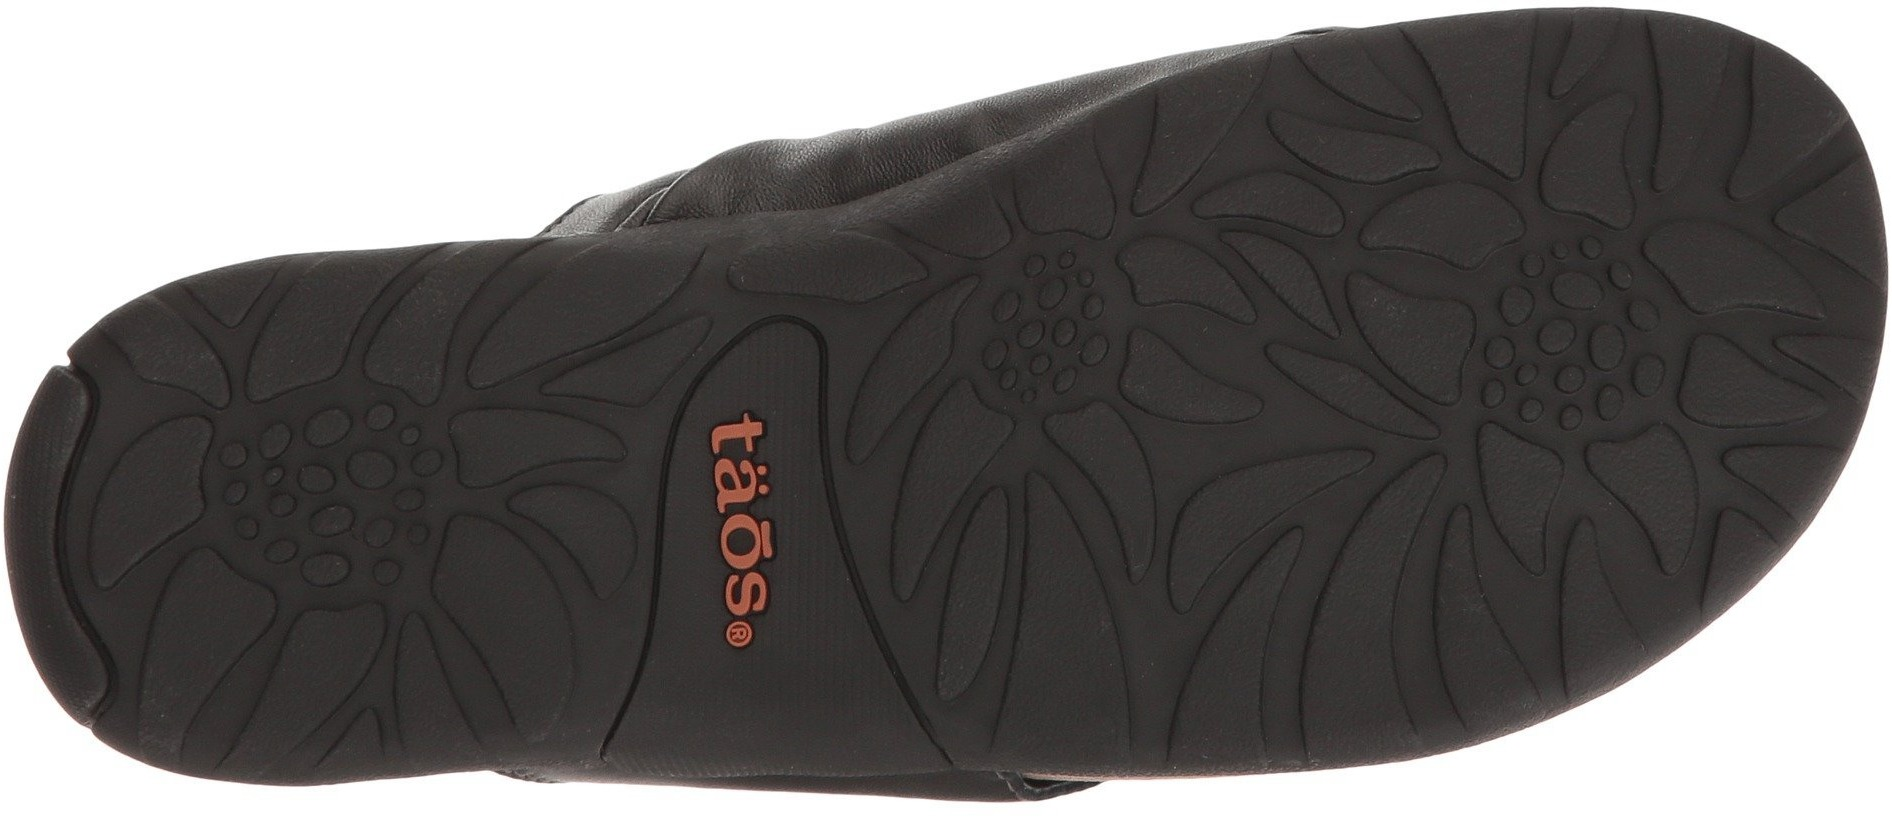circle: (226, 393, 446, 600), (1479, 244, 1662, 428), (959, 241, 1131, 412)
other: (757, 636, 872, 742)
text: (694, 509, 811, 621), (684, 407, 790, 517)
triangle: (1137, 398, 1520, 742), (1119, 82, 1476, 415), (957, 450, 1167, 770), (442, 329, 689, 580), (1674, 308, 1884, 524)
